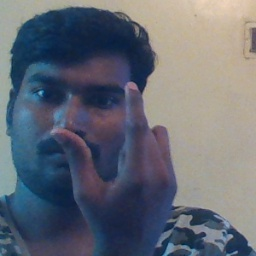U: (43, 76, 188, 224)
